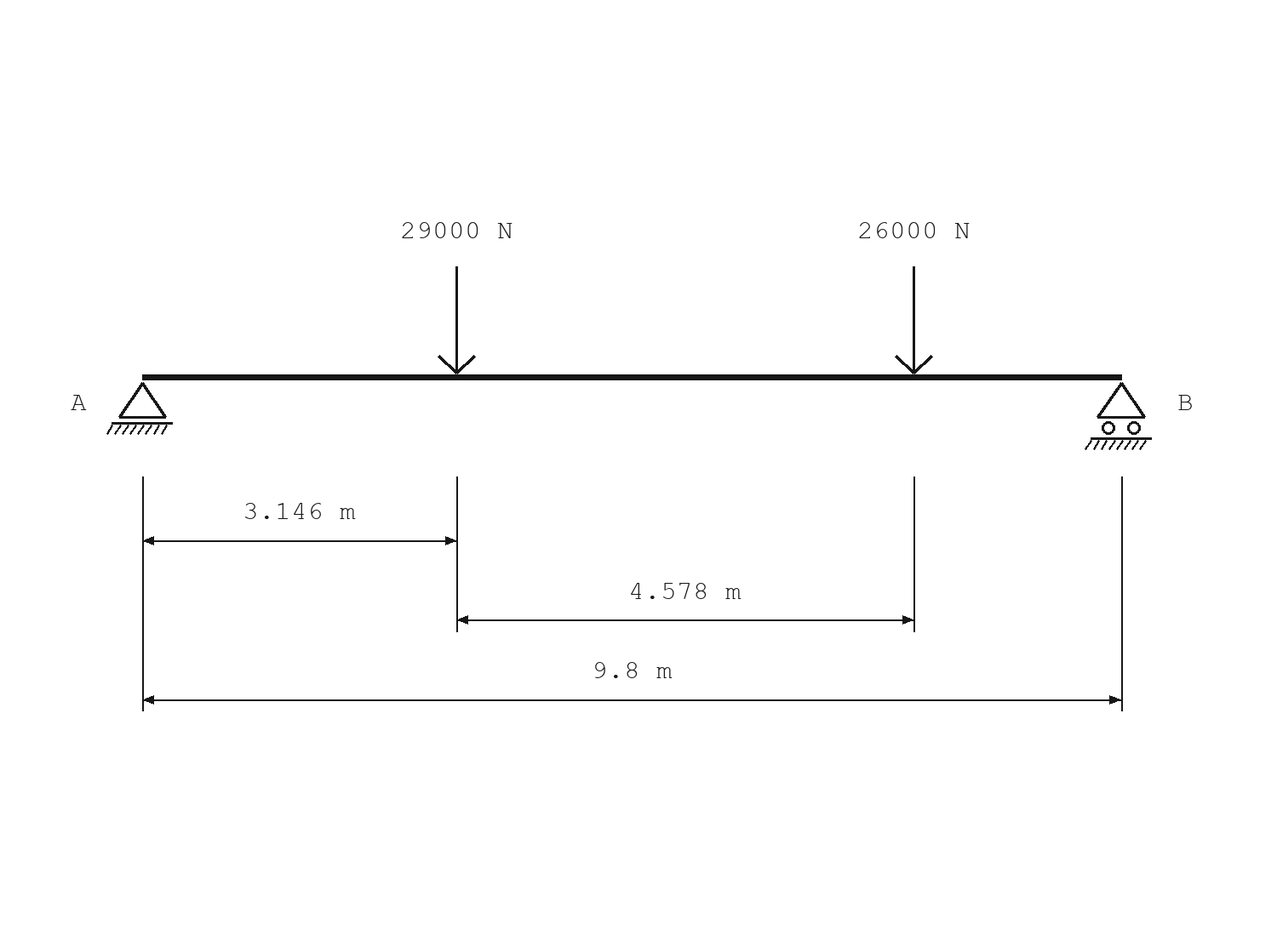pin_support: (106, 382, 173, 435)
point_load: (438, 266, 476, 374), (895, 266, 933, 374)
roller_support: (1085, 382, 1152, 450)
